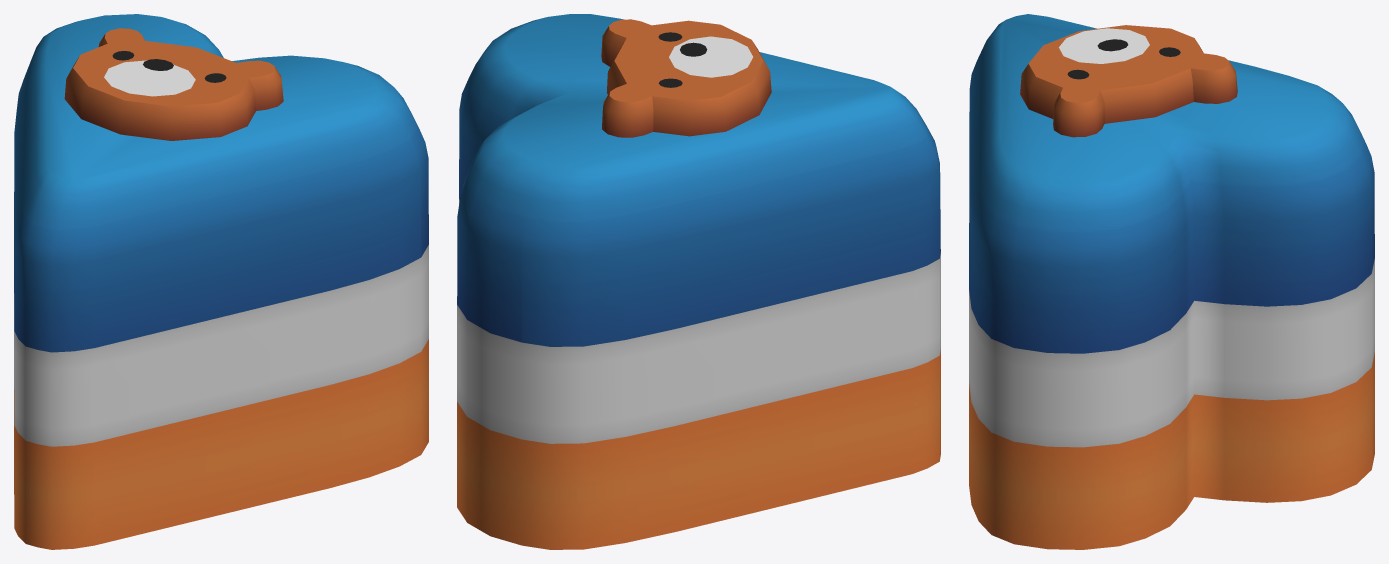
Rendered from cake10_slice.FBX.
The picture shows the model from 3 angles, left to right: view 1: azimuth 30°, elevation 25°; view 2: azimuth 150°, elevation 25°; view 3: azimuth 270°, elevation 25°; orthographic projection. The views are drawn at different scales.
Visible parts, largest first — view 1: cake10_slice; view 2: cake10_slice; view 3: cake10_slice.
Boxes of the visible parts, x1,y1,x2,y2 form: cake10_slice: (14, 14, 428, 549); cake10_slice: (457, 14, 940, 549); cake10_slice: (969, 14, 1374, 549).
Size of the model in its own units: 0.0086 by 0.00774 by 0.00727.
